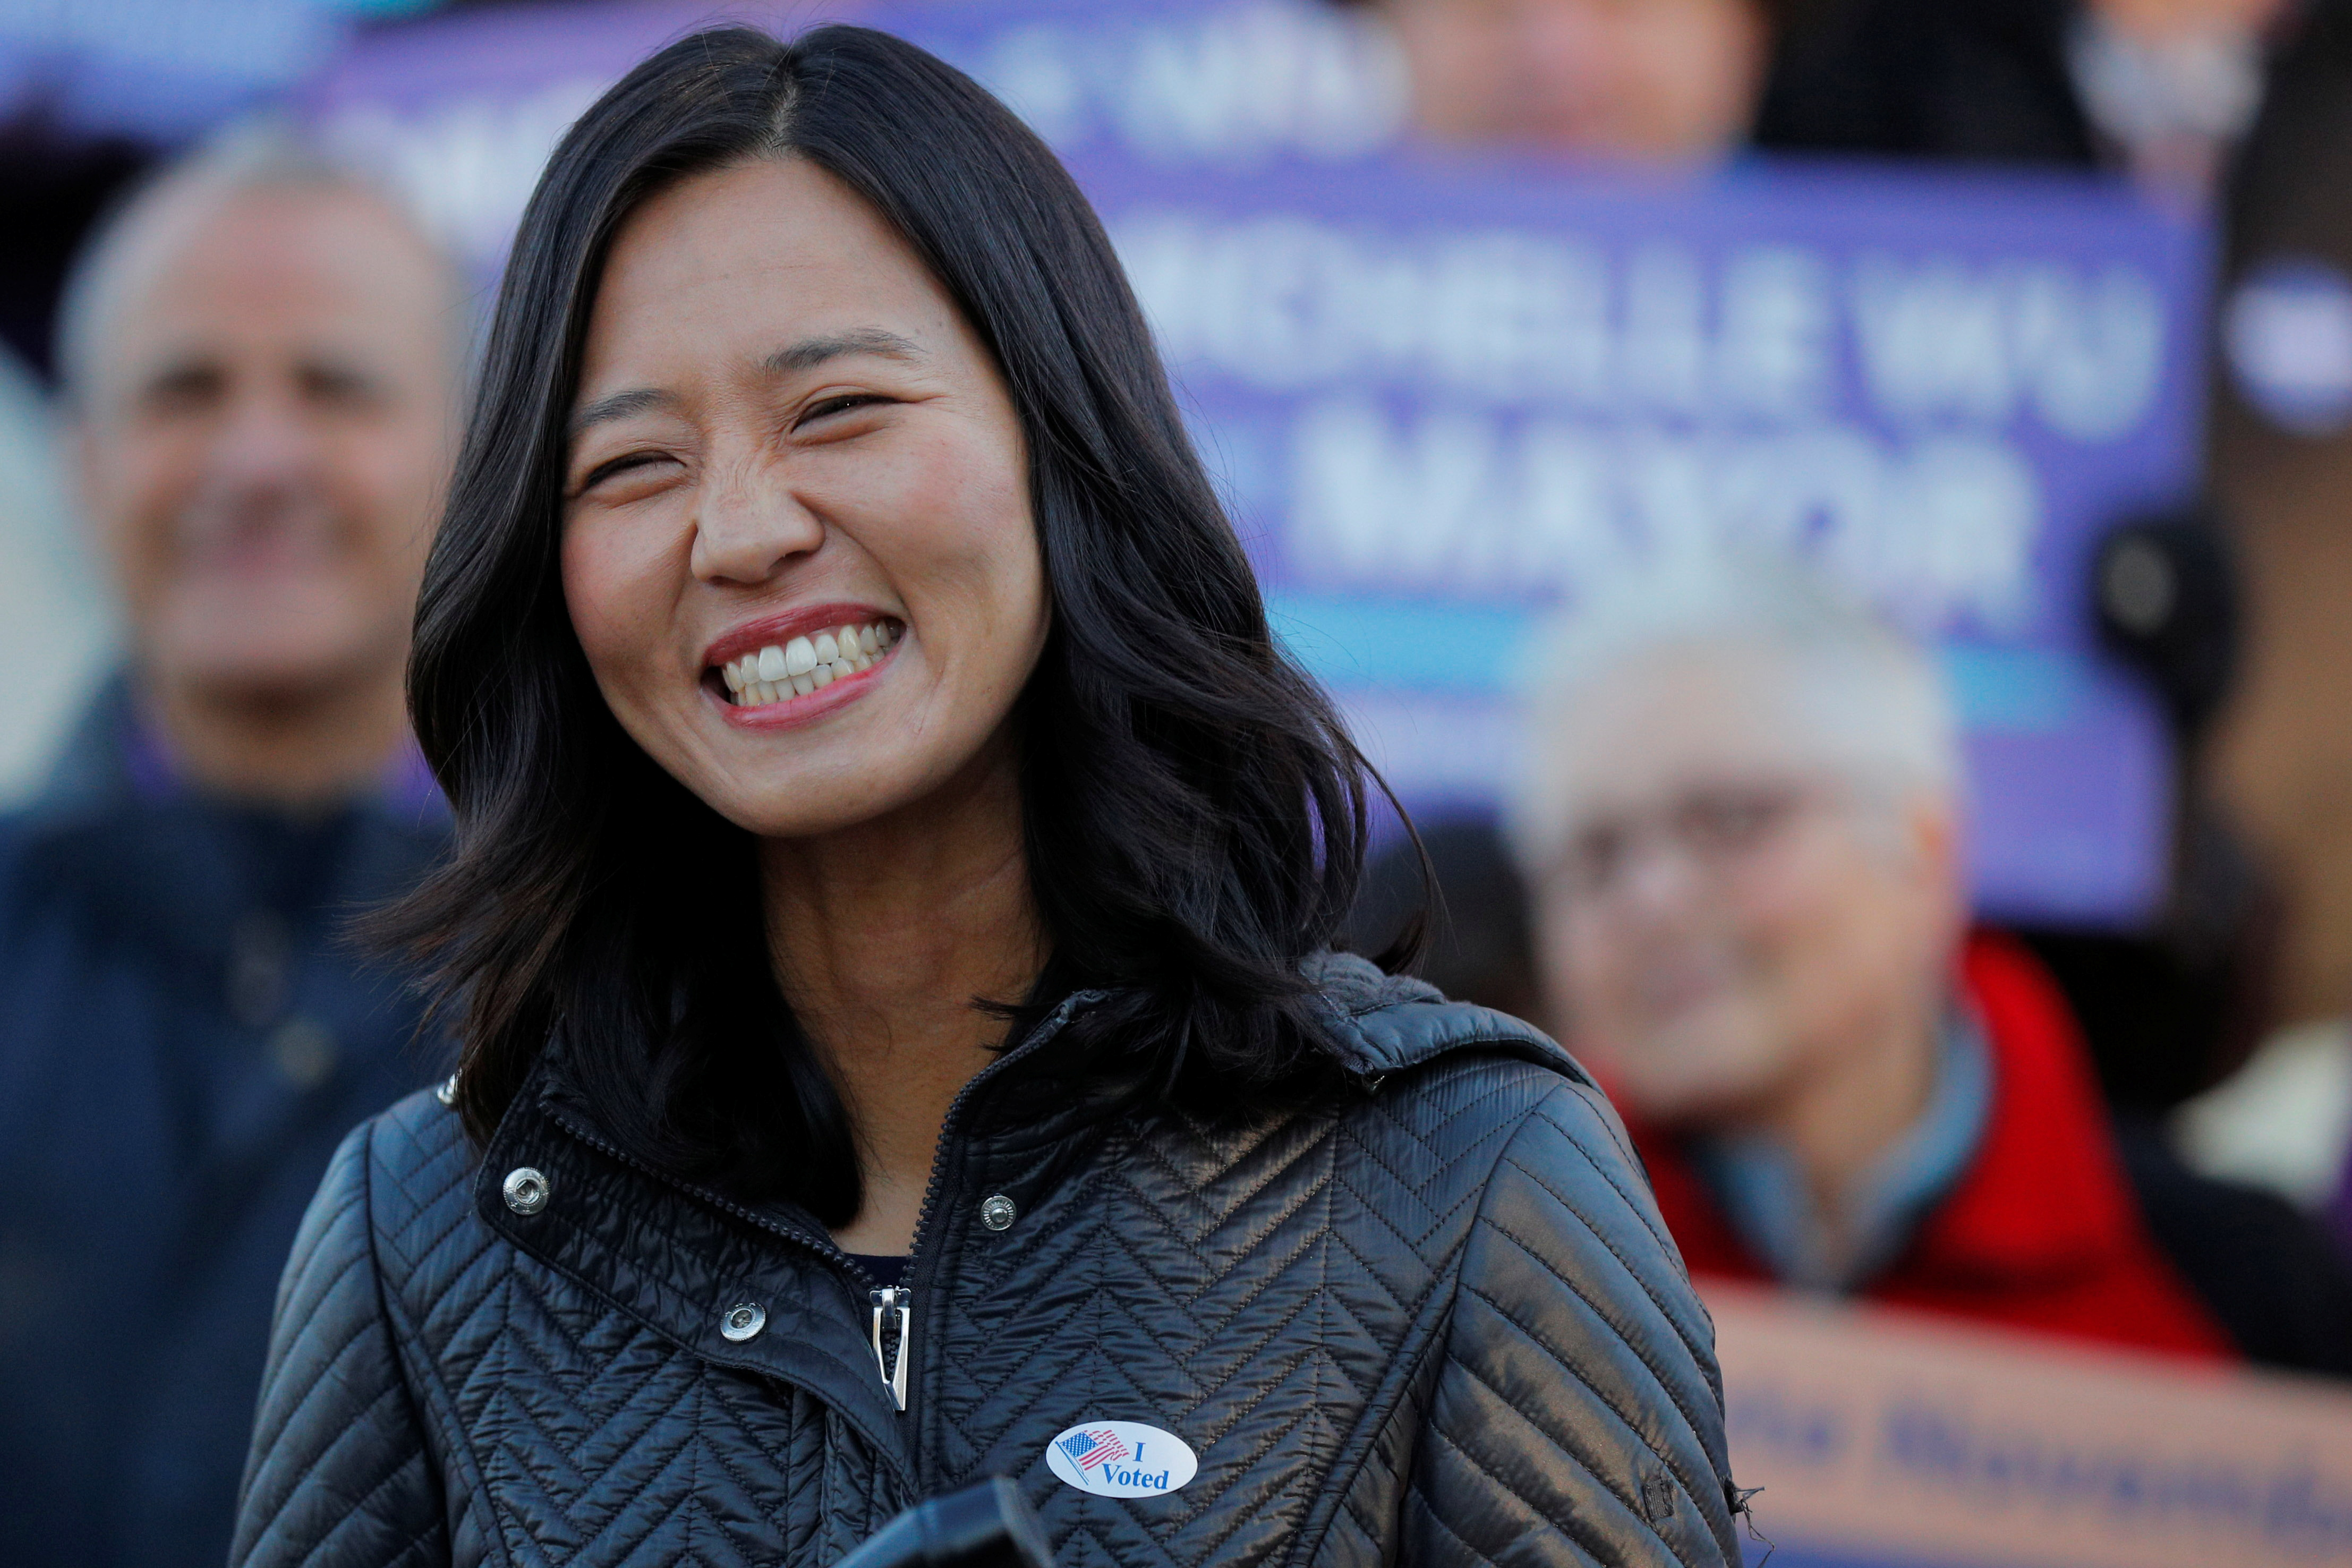person: (254, 15, 1755, 1568)
